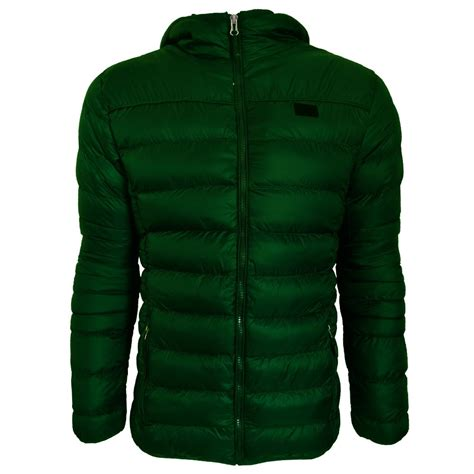nylon: (71, 10, 409, 465)
